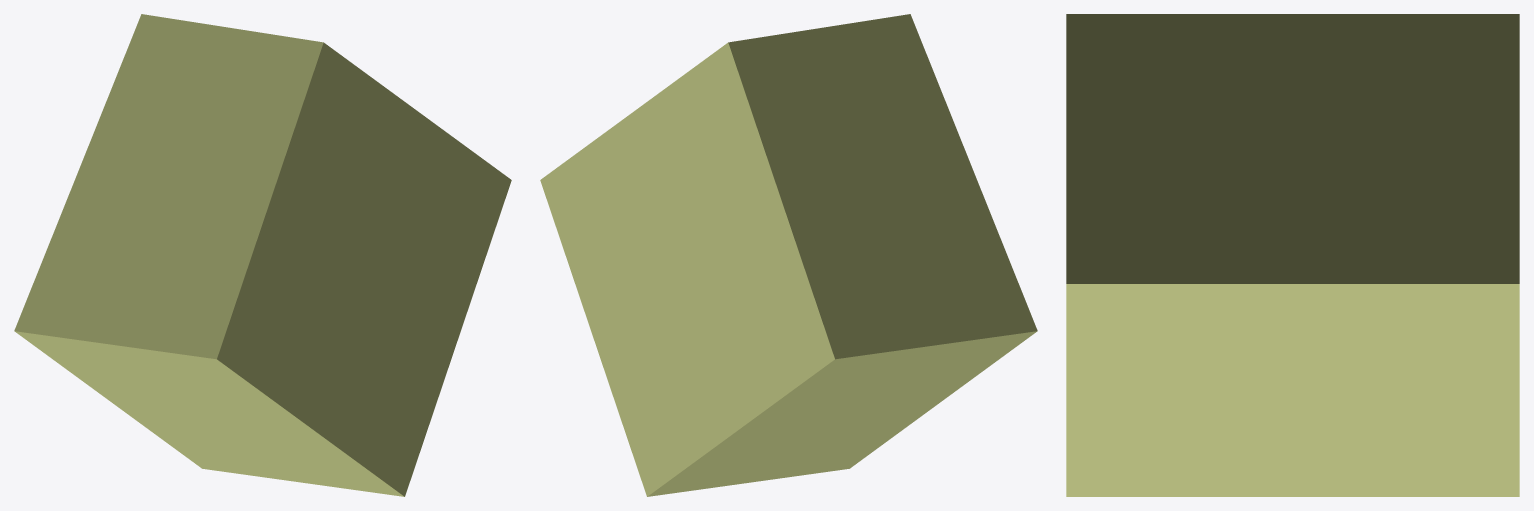
3 renders of one model, left to right at view 1: azimuth 30°, elevation 25°; view 2: azimuth 150°, elevation 25°; view 3: azimuth 270°, elevation 25°, orthographic. The views are drawn at different scales.
Visible parts, largest first — view 1: 0_0_1_3_1_2_1_3_1_3; view 2: 0_0_1_3_1_2_1_3_1_3; view 3: 0_0_1_3_1_2_1_3_1_3.
Part boxes in pixels (x1,y1,x2,y2): 0_0_1_3_1_2_1_3_1_3: (14, 14, 511, 496); 0_0_1_3_1_2_1_3_1_3: (540, 14, 1037, 496); 0_0_1_3_1_2_1_3_1_3: (1066, 14, 1519, 496).
Bounding box in the file's own units: 8.55 × 9.6 × 9.
